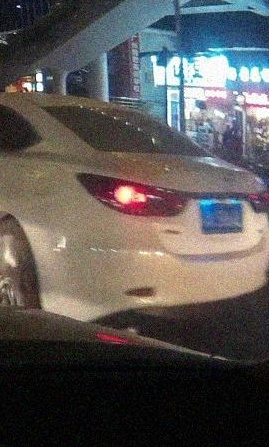L_light: (76, 172, 187, 218)
R_light: (245, 189, 268, 211)
T_light: (105, 109, 126, 113)
night-left: (27, 95, 269, 322)
